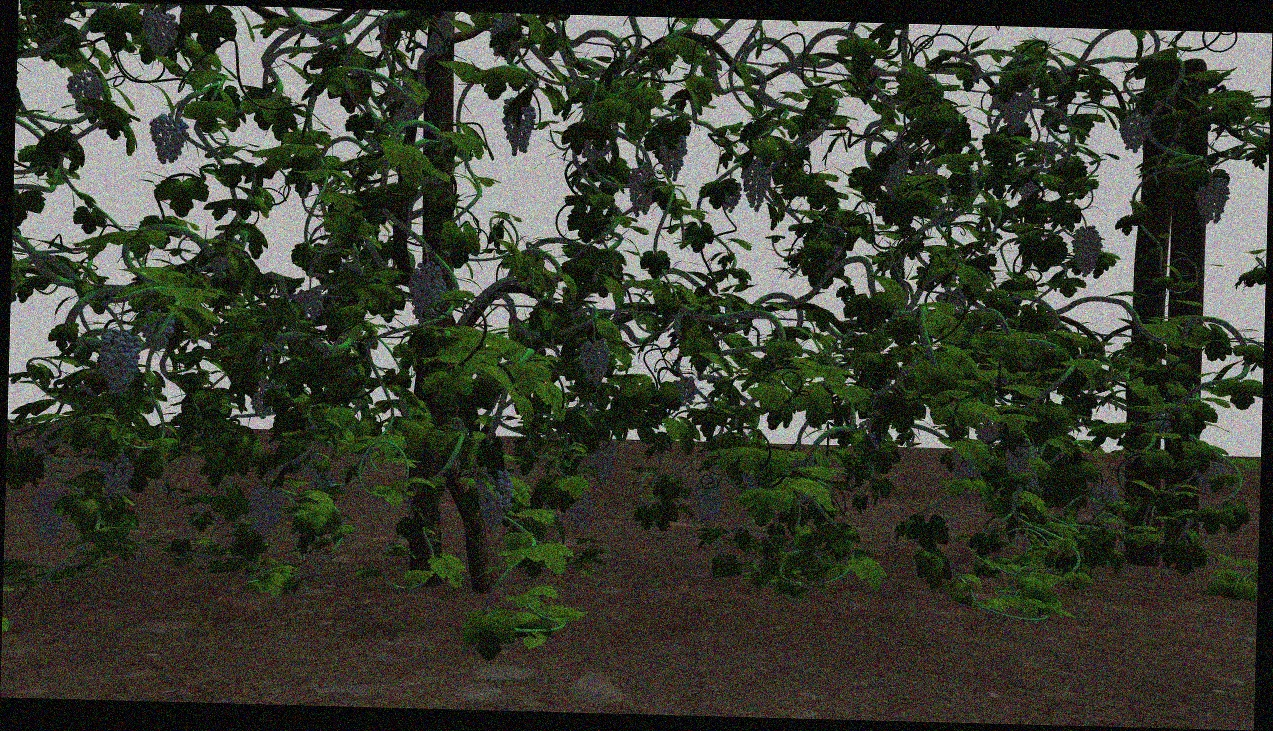grape: (96, 328, 143, 396), (472, 466, 513, 532), (409, 260, 449, 323), (26, 489, 68, 546), (246, 483, 287, 540), (501, 95, 538, 158), (149, 111, 190, 165), (740, 158, 774, 213), (143, 7, 180, 57), (879, 143, 911, 199), (694, 474, 725, 529), (1194, 176, 1231, 222), (98, 453, 134, 499), (1071, 224, 1102, 277), (588, 435, 621, 484), (578, 339, 610, 389), (65, 71, 104, 111), (628, 162, 655, 218), (1117, 111, 1151, 154), (659, 132, 687, 181), (1004, 442, 1039, 478), (1192, 459, 1225, 495), (145, 312, 175, 351), (1091, 483, 1122, 520), (294, 285, 326, 320), (948, 449, 982, 479), (569, 494, 595, 531), (989, 87, 1017, 119), (1009, 92, 1029, 134), (672, 376, 698, 405)
